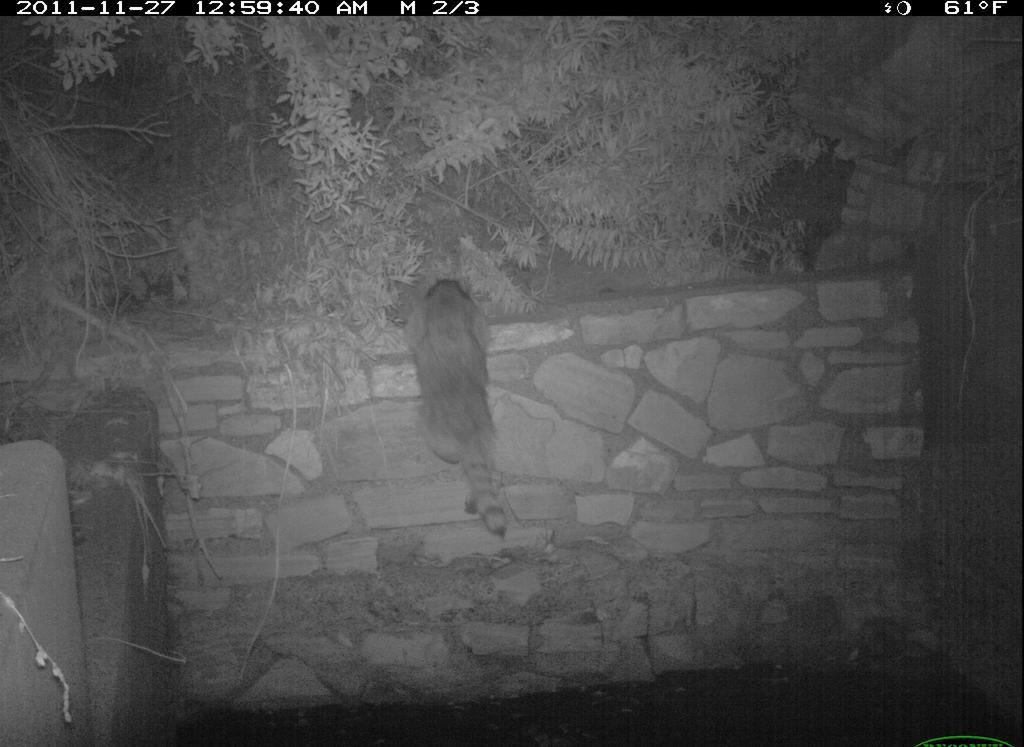raccoon: (397, 269, 528, 547)
